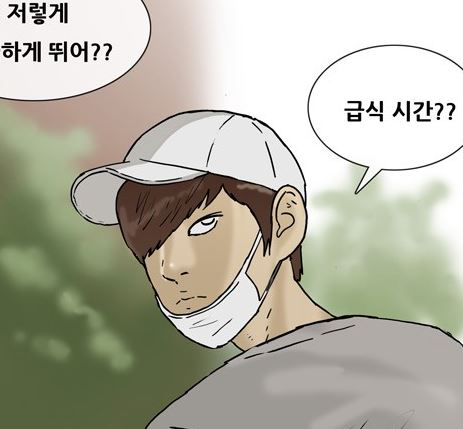hat: (69, 106, 309, 228)
